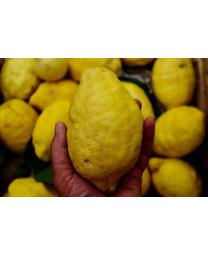lemon: (66, 66, 142, 191), (153, 104, 204, 154), (0, 94, 37, 150)
